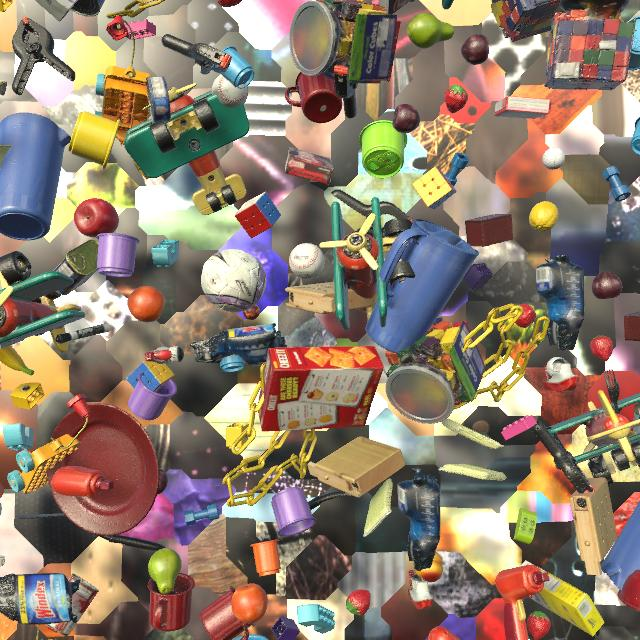ycb_002_master_chef_can: (71, 0, 105, 17)
ycb_003_cracker_box: (258, 346, 384, 431)
ycb_004_sugar_box: (521, 560, 604, 636), (35, 0, 78, 22)
ycb_005_tomato_soup_can: (46, 573, 99, 636)
ycb_007_tuna_fish_can: (146, 76, 171, 123)
ycb_008_pudding_box: (285, 147, 334, 185), (379, 0, 411, 15)
ycb_009_gelatin_box: (494, 96, 552, 119)
ycb_010_potted_meat_can: (53, 240, 99, 295), (0, 145, 12, 168)
ycb_011_banana: (0, 345, 34, 376)
ycb_012_strawberry: (527, 611, 551, 640), (346, 589, 371, 616), (445, 84, 468, 113), (590, 335, 613, 361), (513, 304, 536, 328), (217, 0, 242, 8)
ycb_013_apple: (74, 198, 119, 238)
ycb_014_lemon: (529, 201, 558, 232)
ycb_015_peach: (413, 551, 443, 582)
ycb_016_pear: (407, 12, 454, 49), (148, 548, 182, 594)
ycb_017_orange: (231, 583, 268, 623), (127, 286, 165, 322)
ycb_018_plum: (461, 34, 489, 65), (591, 271, 622, 299), (392, 104, 420, 133), (142, 468, 168, 495)
